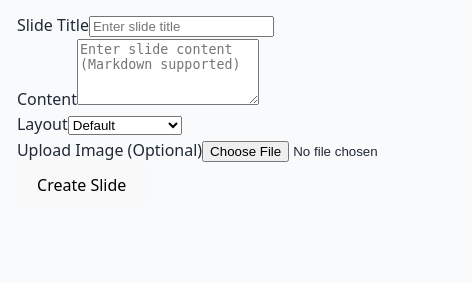
SlideForm Component › should show error message when addSlide fails
The width and height of the screenshot is (472, 282).
Type "Test Title" into the field with placeholder "Enter slide title".
click(181, 26); type("Test Title")  # box [89,16,274,37]
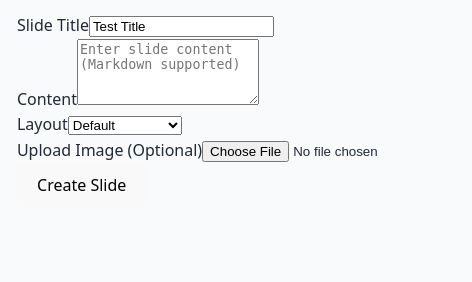
Click the button "Create Slide".
click(82, 185)  # box [17,163,146,207]
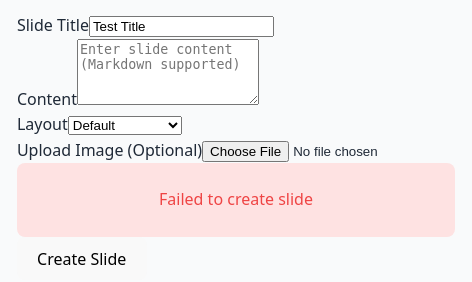
Expected: the text "Failed to create slide" is shown, [17,163,455,237]
